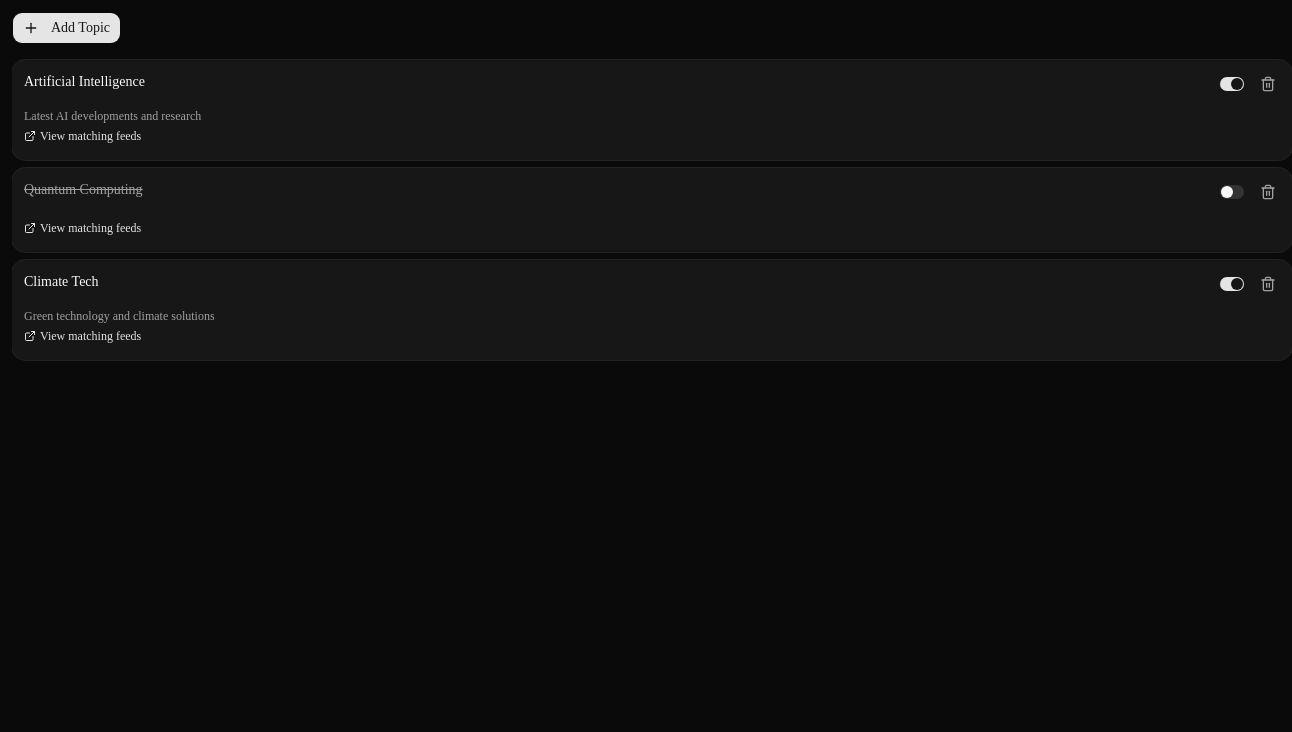
Test case: Topics Management Flow › TopicList Component › hides form and clears inputs when Cancel is clicked
Click the button "Add Topic". click: click(66, 28)
box: [12,12,121,44]
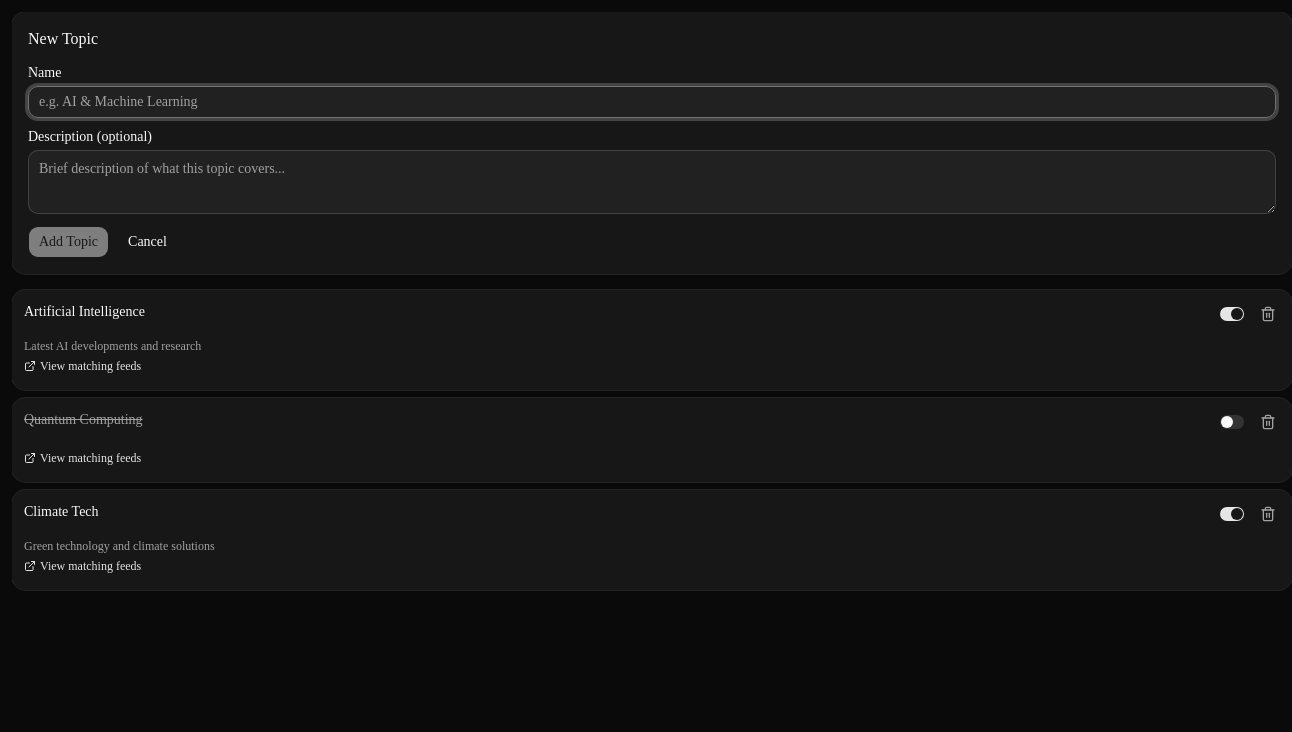
Expected: the text "New Topic" is shown, [28,30,98,47]
Type "Draft Topic" into the field labelled "Name". click: (652, 102)
box: [28,86,1276,118]
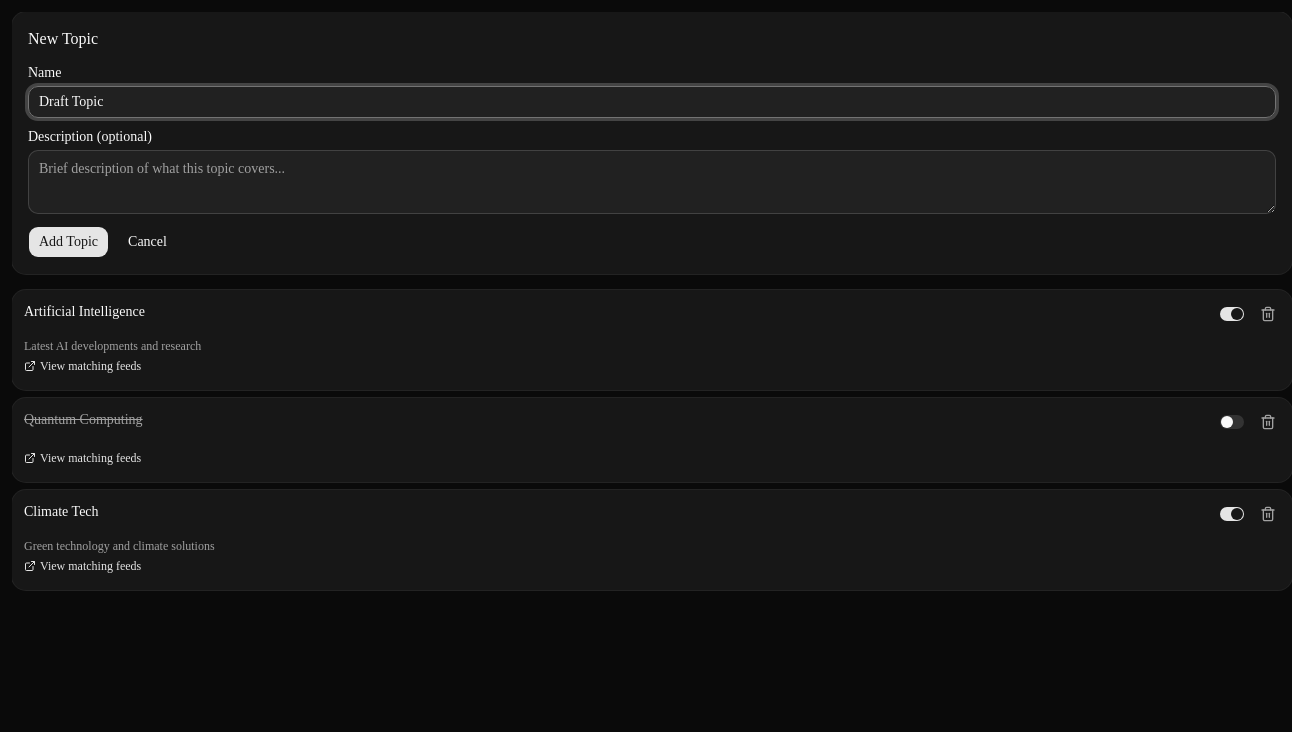
Click the button "Cancel". click: click(147, 242)
box: [117,226,178,258]
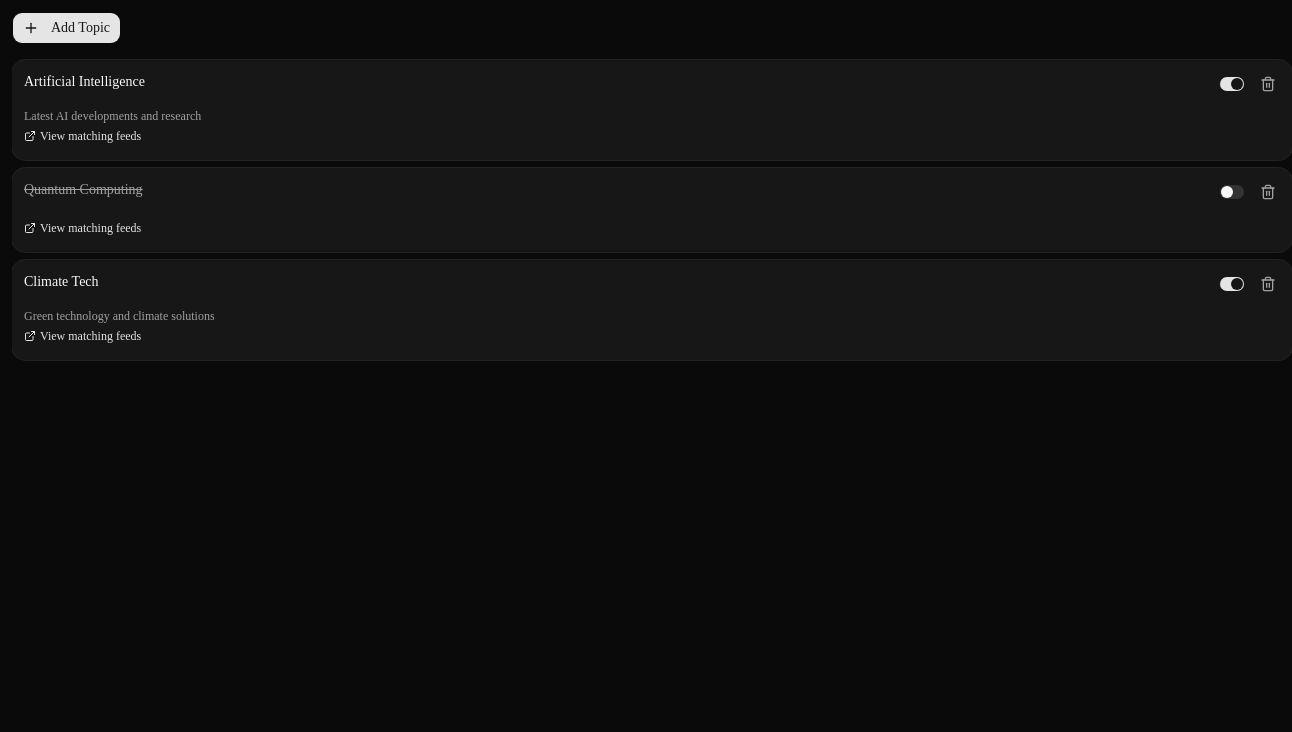
Expected: the button "Add Topic" is shown, [12,12,121,44]
Expected: the text "New Topic" is gone
